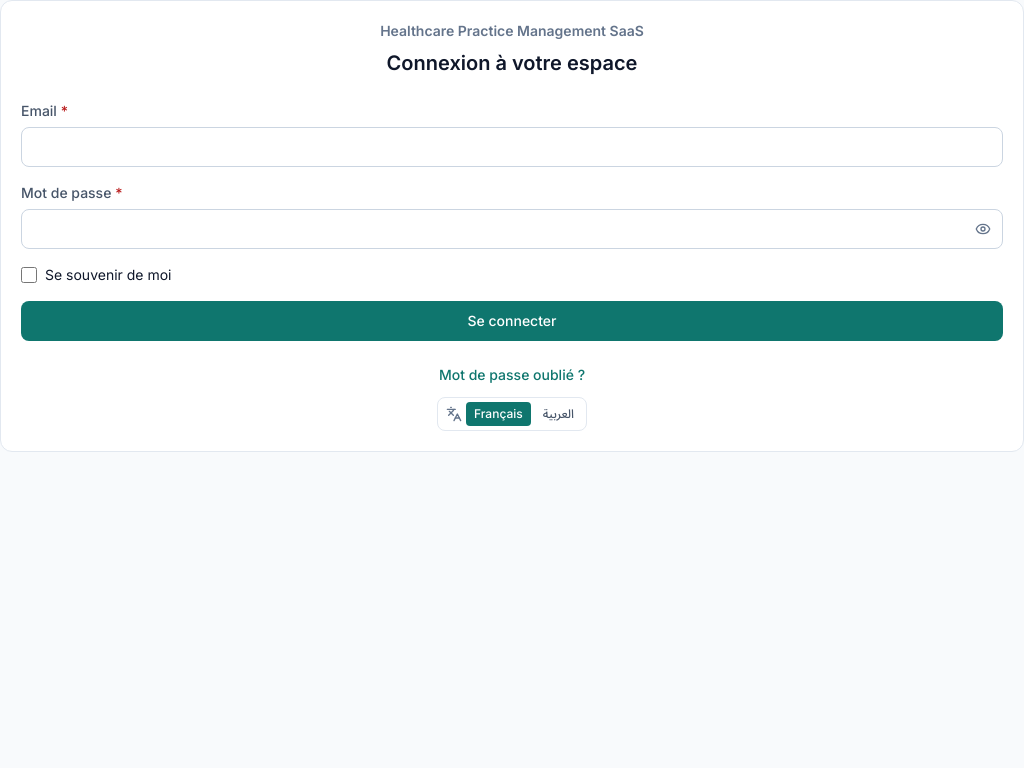
Test: LoginPage › a valid submission never sets any storage and only shows a bounded pending-backend notice
This screenshot has width=1024, height=768.
Type "docteur@cabinet.test" into the field labelled "Email *".
click(512, 147); type("docteur@cabinet.test")  # box [21,127,1003,167]
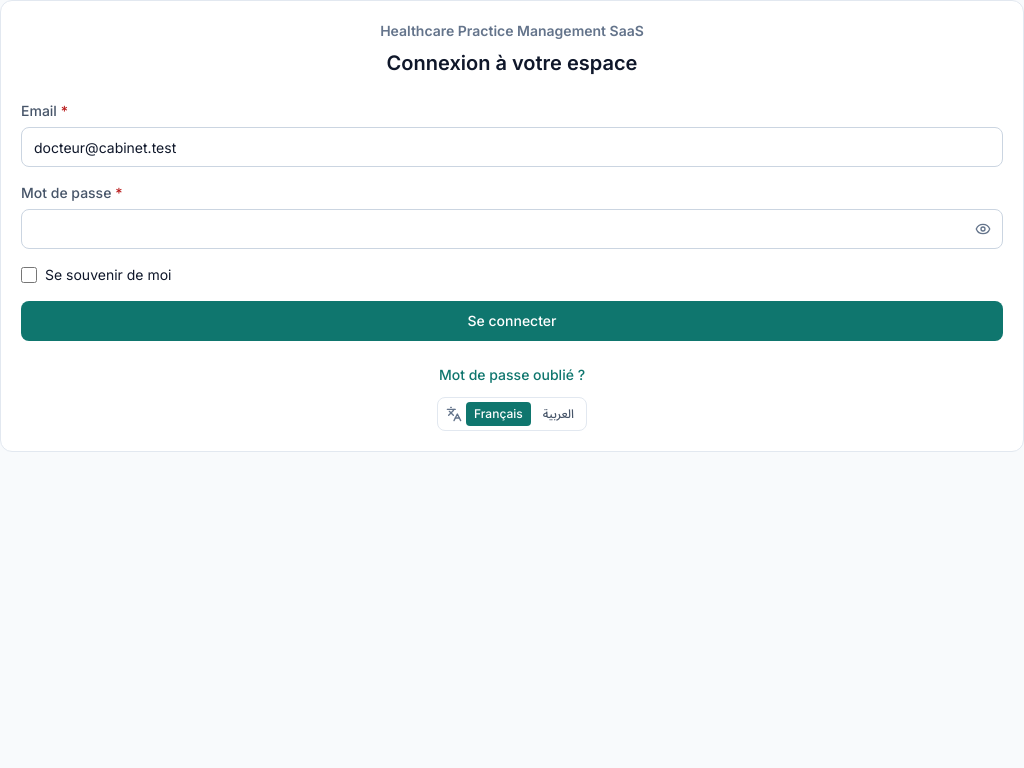
Type "hunter2" into the password field labelled "Mot de passe *".
click(512, 229); type("hunter2")  # box [21,209,1003,249]
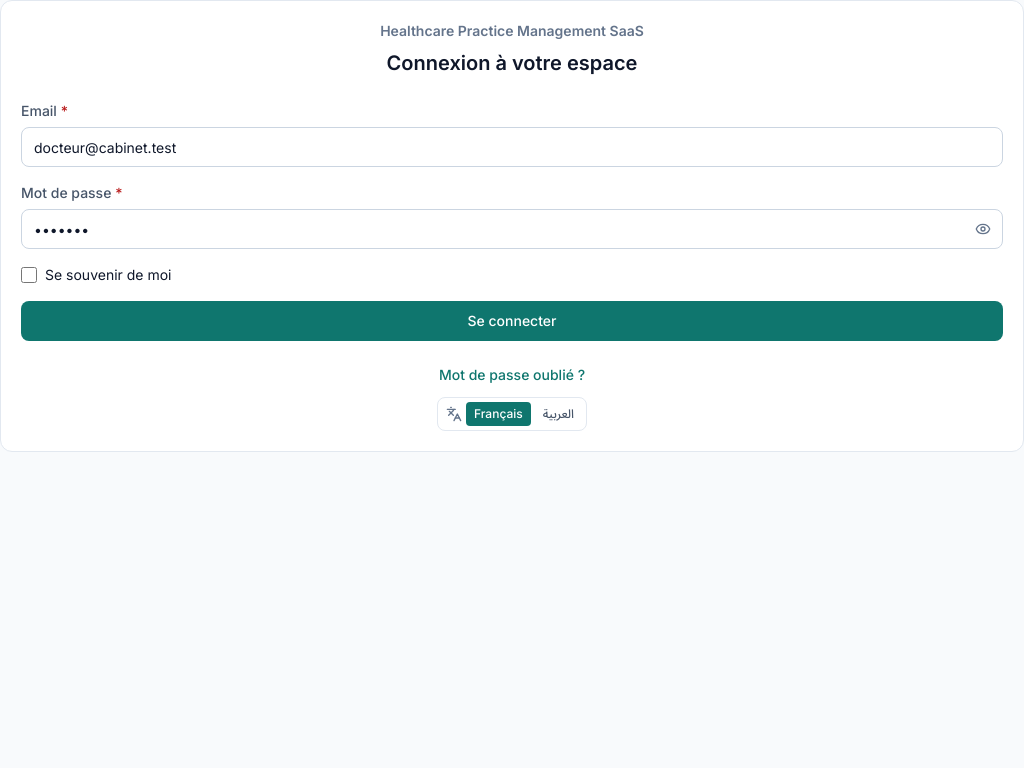
Click the button "Se connecter".
click(512, 321)  # box [21,301,1003,341]
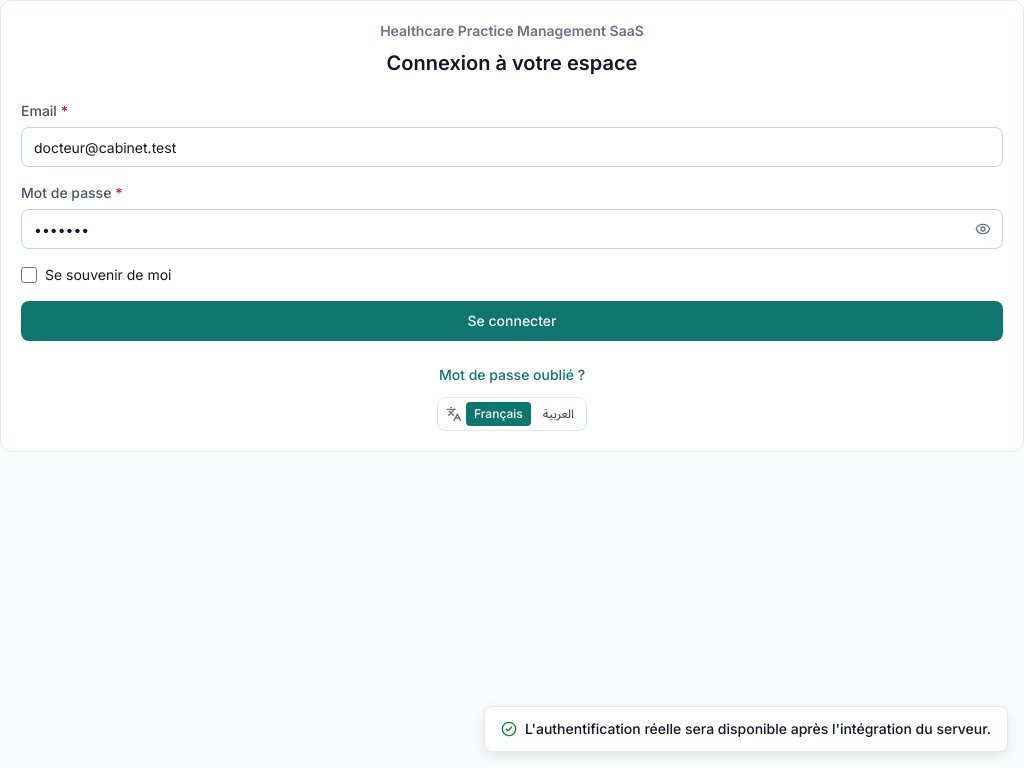
expect the text "L'authentification réelle sera disponible après l'intégration du serveur." is shown: met, box [484,706,1008,752]
